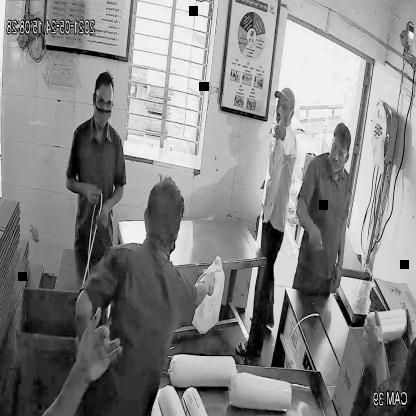goggles: (91, 91, 118, 116), (327, 140, 352, 162)
